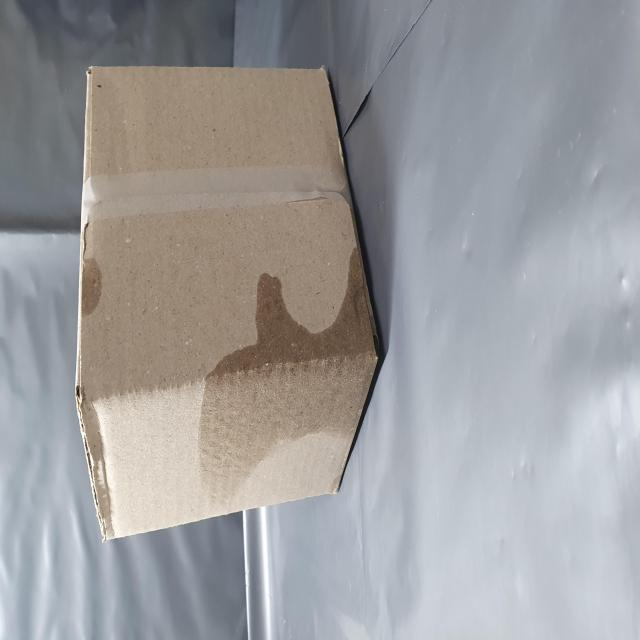wet: (86, 343, 249, 640)
